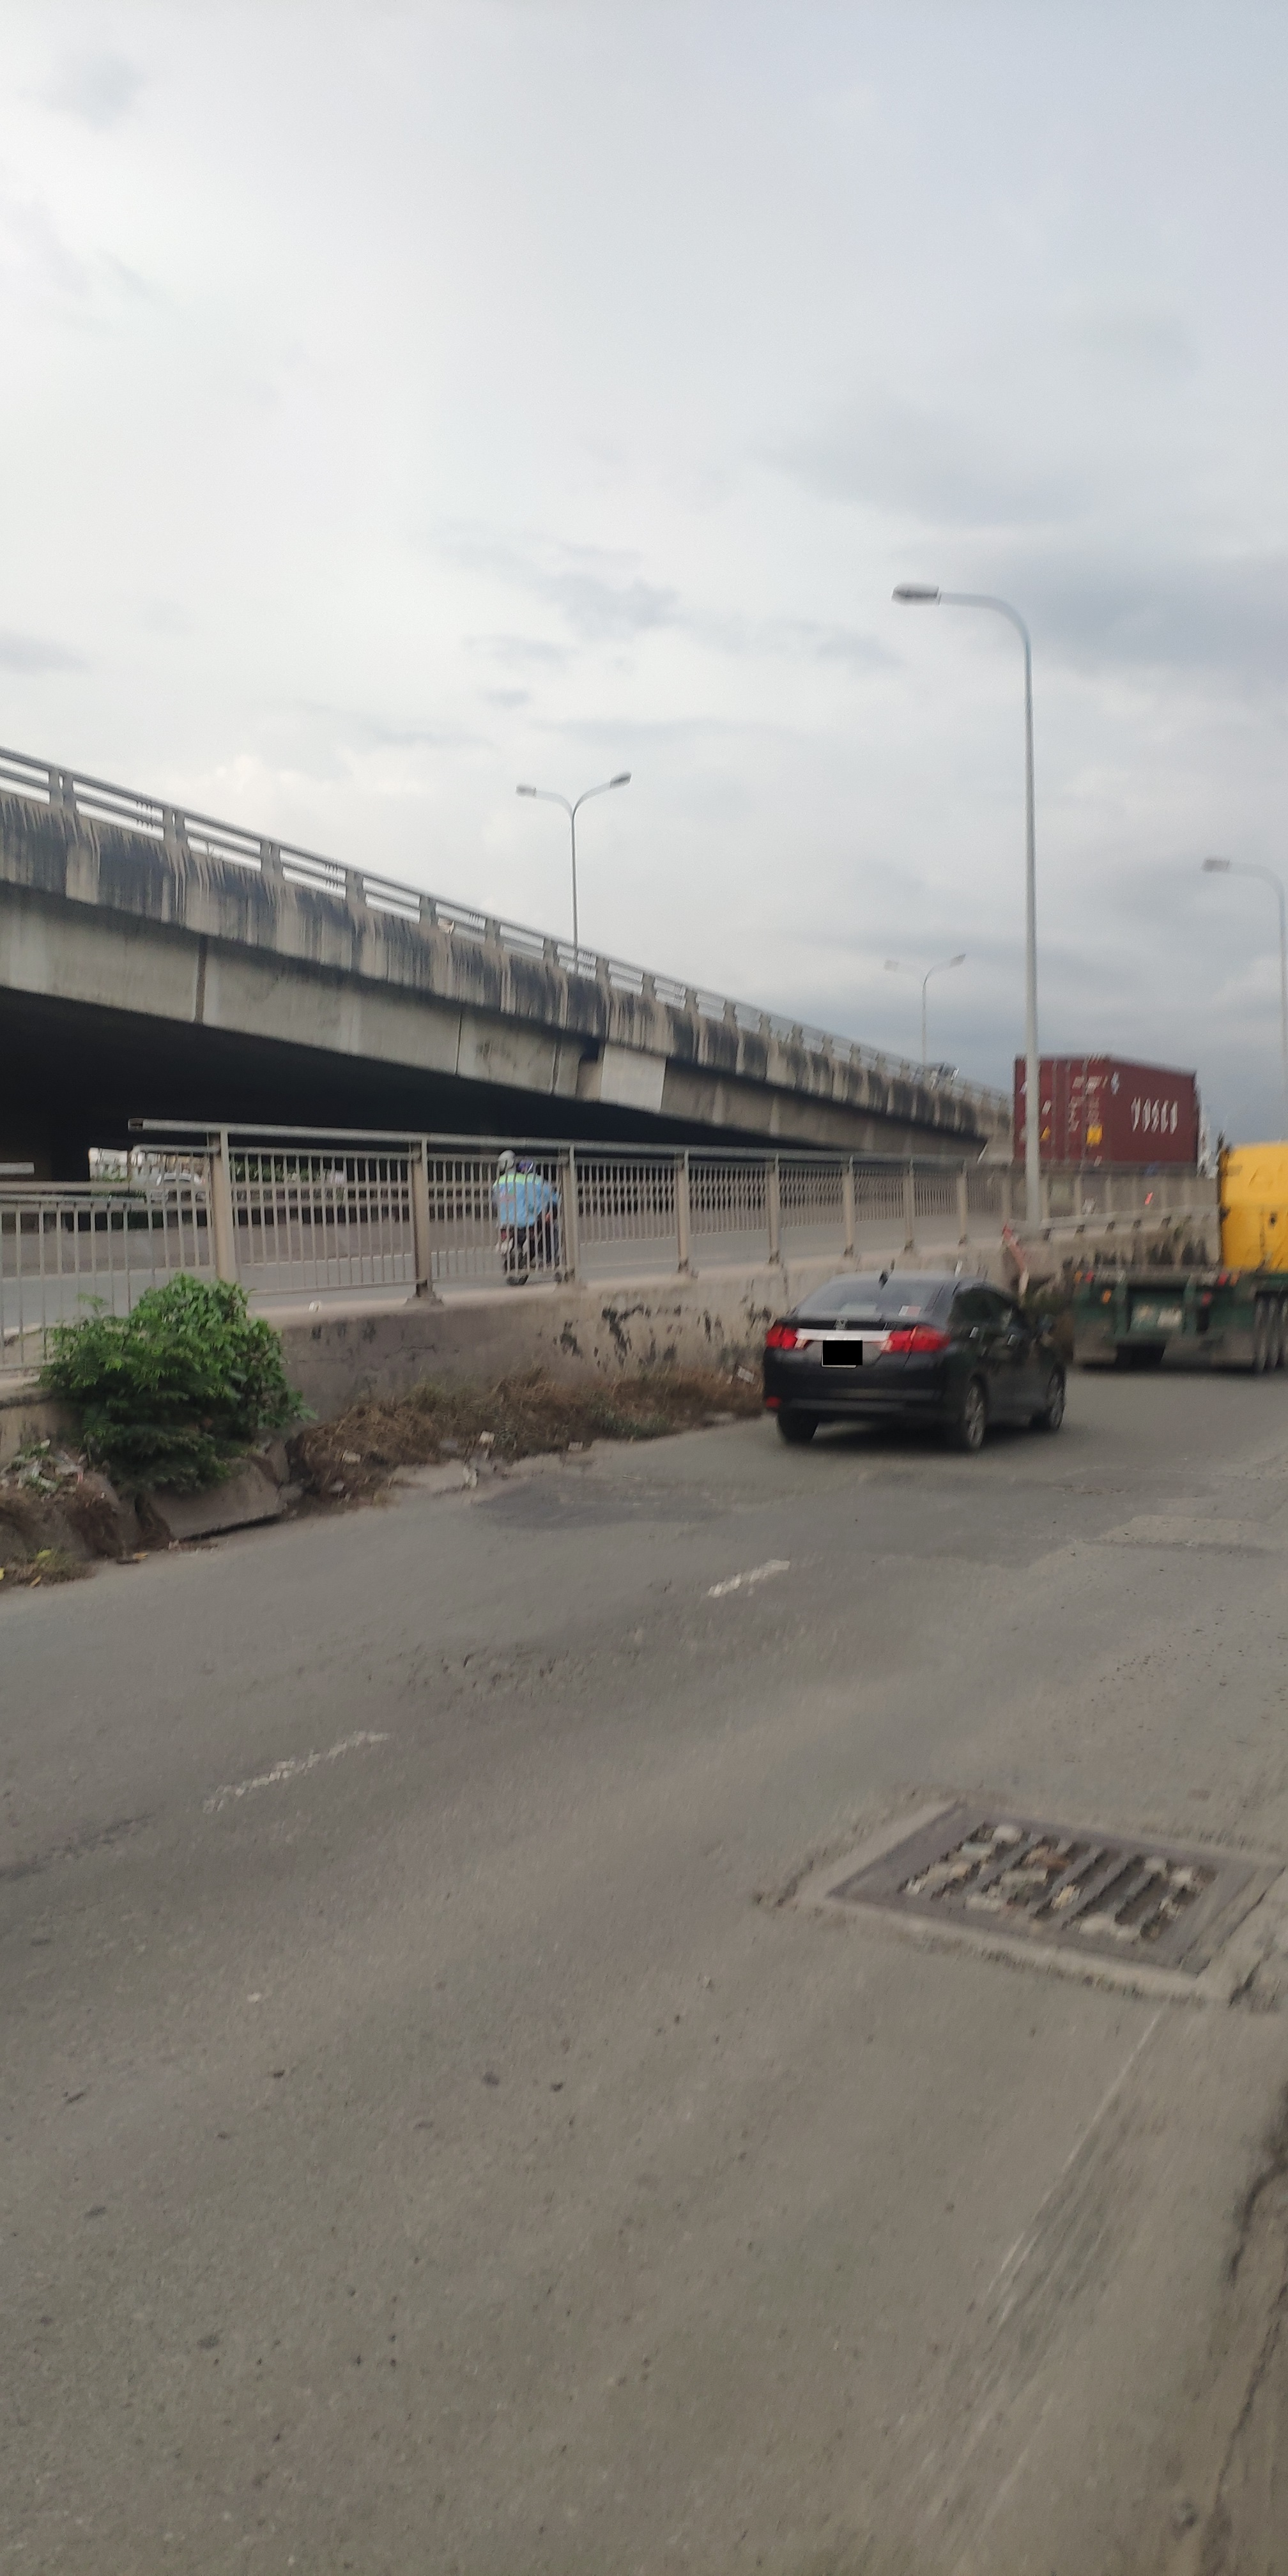hole: (325, 1607, 721, 1717), (493, 1460, 798, 1531)
